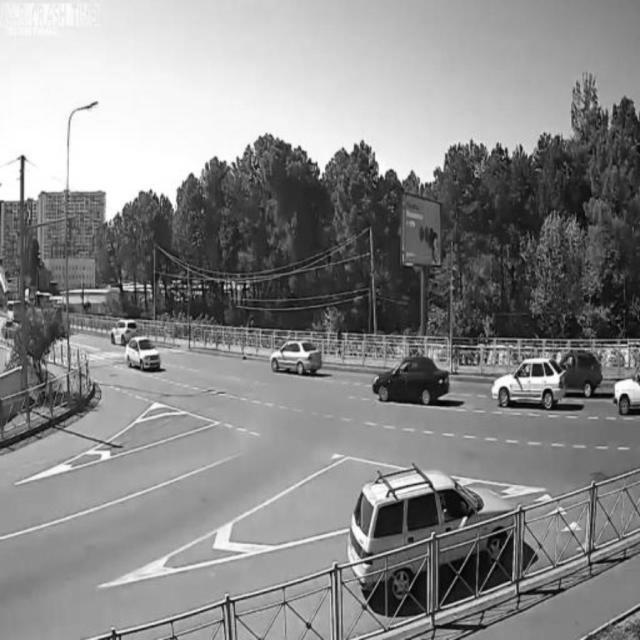vehicle: (353, 475, 511, 591), (493, 355, 567, 410), (371, 355, 448, 407), (269, 334, 324, 379), (565, 352, 603, 403), (124, 334, 162, 374), (613, 368, 640, 415), (109, 315, 139, 345)
